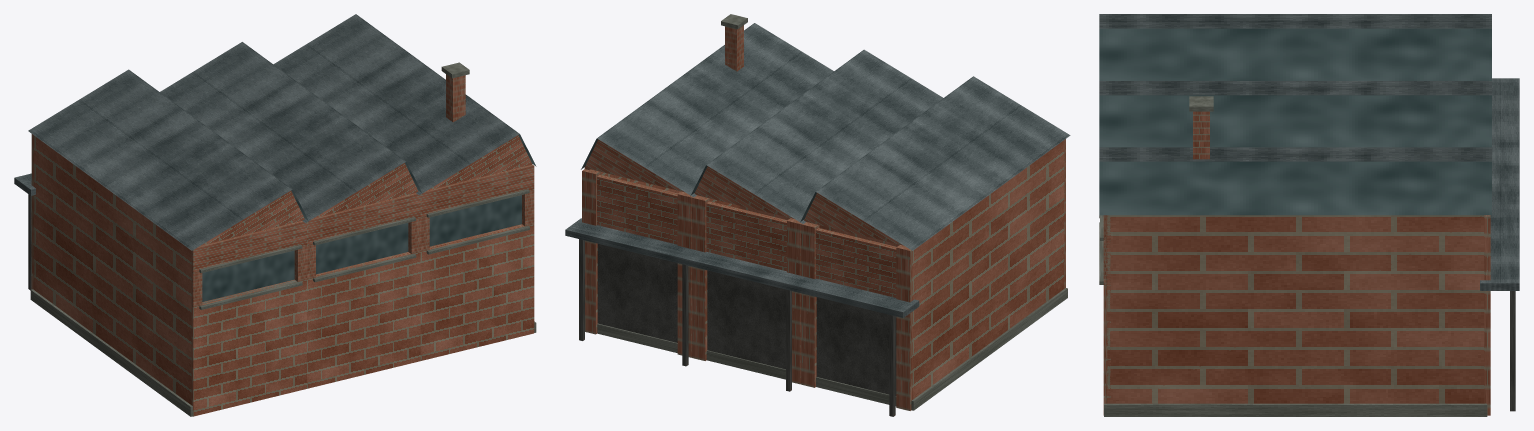
The model's file is industrial_warehouse_lod.gltf.
3 renders of one model, left to right at view 1: azimuth 30°, elevation 25°; view 2: azimuth 150°, elevation 25°; view 3: azimuth 270°, elevation 25°, orthographic. The views are drawn at different scales.
Parts seen in each view (by area): view 1: industrial_warehouse_lod; view 2: industrial_warehouse_lod; view 3: industrial_warehouse_lod.
Part boxes in pixels (bbox=[...]): industrial_warehouse_lod: bbox=[14, 14, 536, 416]; industrial_warehouse_lod: bbox=[565, 14, 1070, 416]; industrial_warehouse_lod: bbox=[1099, 14, 1519, 416].
Size of the model in its own units: 15.45 by 10.27 by 13.39.
1 material, 1 textured.
